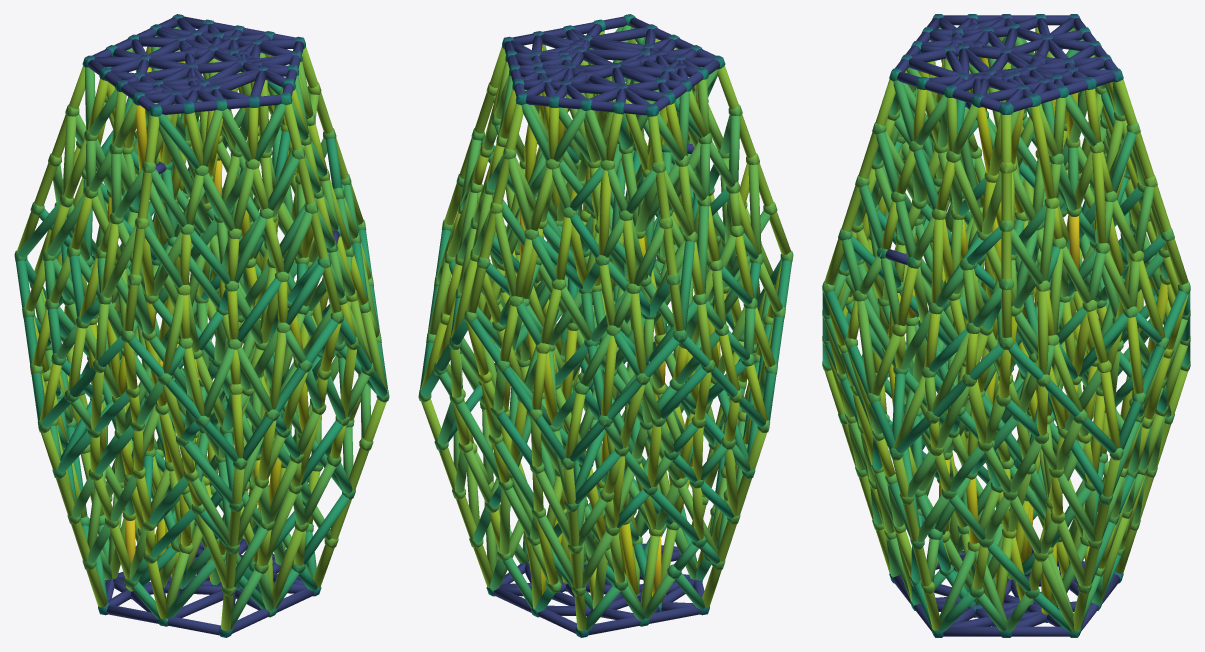
The model's file is dodecahedron_T5_S2.glb.
The picture shows the model from 3 angles, left to right: view 1: azimuth 30°, elevation 25°; view 2: azimuth 150°, elevation 25°; view 3: azimuth 270°, elevation 25°; orthographic projection. The views are drawn at different scales.
Visible parts, largest first — view 1: dodecahedron; view 2: dodecahedron; view 3: dodecahedron.
Boxes of the visible parts, <box> form: dodecahedron: <box>14,14,389,637</box>; dodecahedron: <box>418,14,793,637</box>; dodecahedron: <box>822,14,1190,637</box>.
Bounding box in the file's own units: 67.64 × 104 × 64.33.
